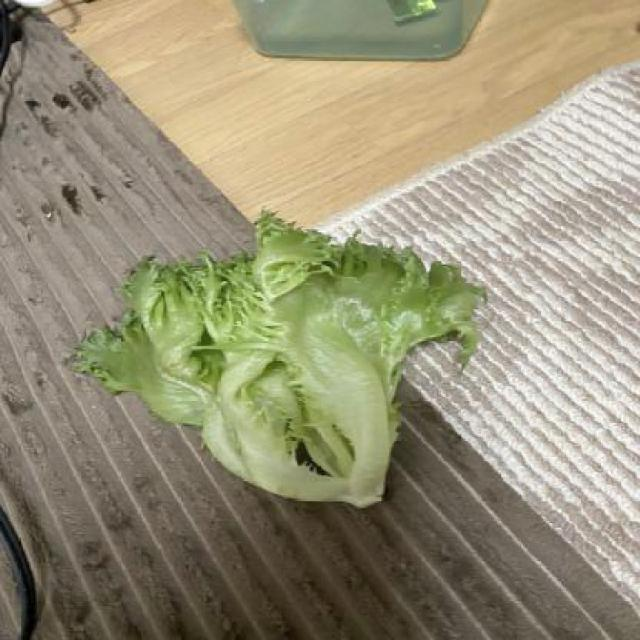Lettuce: (77, 205, 492, 508)
